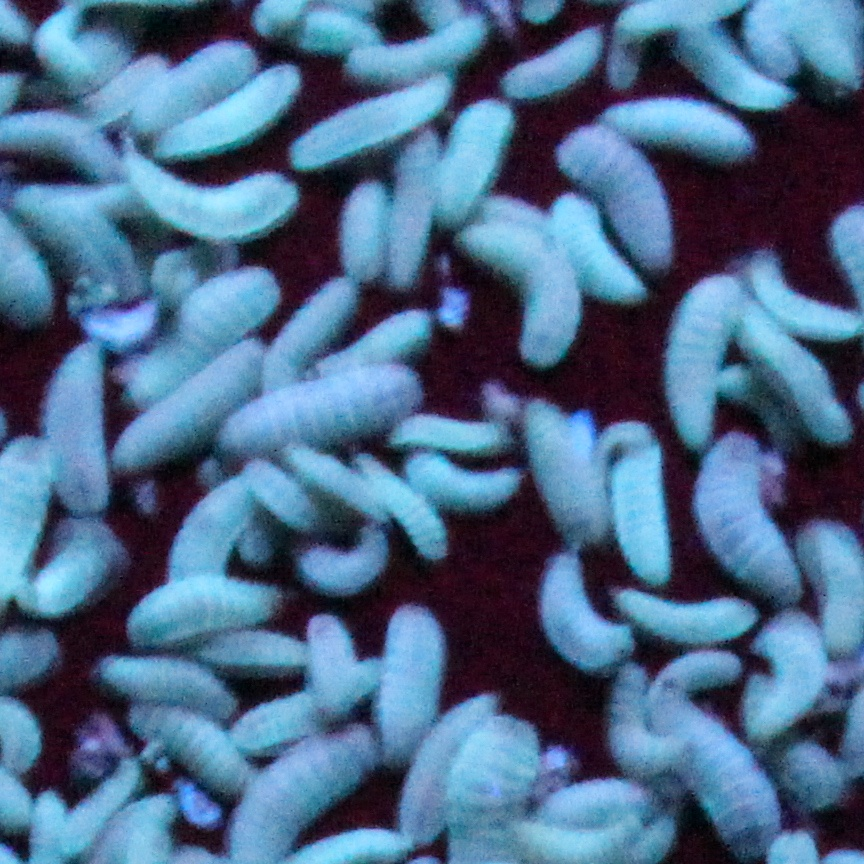larve: (659, 685, 781, 850), (222, 361, 432, 456), (286, 65, 457, 179), (690, 434, 804, 596), (135, 272, 268, 410), (557, 128, 684, 268), (732, 305, 855, 445), (124, 345, 259, 472), (459, 225, 582, 361), (119, 139, 288, 236), (35, 328, 121, 507), (10, 176, 137, 296), (153, 59, 299, 159), (517, 396, 610, 550), (124, 568, 301, 648), (595, 412, 677, 581), (395, 694, 490, 839), (668, 14, 799, 114), (544, 192, 659, 303), (537, 545, 624, 683), (590, 98, 755, 168), (121, 705, 255, 790), (666, 272, 728, 448), (137, 39, 253, 132), (357, 452, 452, 565), (435, 88, 513, 223), (337, 19, 481, 92), (268, 268, 352, 392), (177, 472, 257, 598), (90, 650, 235, 719), (384, 121, 441, 296), (382, 605, 444, 756), (39, 499, 117, 619), (599, 665, 682, 774), (613, 579, 753, 643), (322, 303, 437, 376), (291, 445, 390, 527), (504, 25, 613, 98), (759, 614, 821, 727), (61, 761, 135, 854), (244, 461, 337, 534), (302, 601, 361, 714), (291, 530, 395, 594), (388, 401, 513, 454), (408, 456, 532, 508), (533, 776, 655, 823), (199, 627, 310, 676), (339, 179, 388, 276)
